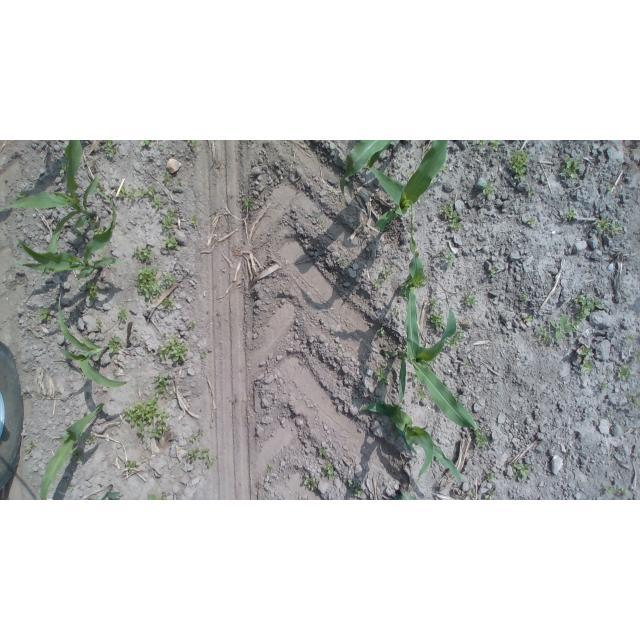Maize: (380, 271, 482, 437), (350, 398, 465, 495), (0, 140, 98, 252), (363, 141, 461, 232), (44, 288, 128, 391), (25, 205, 126, 279), (37, 402, 103, 486), (393, 203, 424, 359), (339, 141, 393, 198)
Weeds: (121, 399, 172, 443), (110, 184, 165, 208), (136, 263, 167, 299), (539, 318, 582, 343), (155, 337, 191, 365), (575, 293, 606, 320), (508, 148, 531, 184), (150, 371, 174, 398), (186, 447, 215, 469), (593, 217, 623, 238), (160, 205, 181, 235), (559, 155, 581, 183), (578, 344, 597, 376), (132, 243, 156, 265), (442, 206, 460, 233), (447, 329, 468, 352), (472, 427, 493, 449), (466, 486, 504, 498), (427, 310, 445, 335), (373, 267, 392, 290), (164, 232, 183, 254), (513, 461, 531, 483), (601, 483, 627, 498), (309, 209, 328, 229), (438, 246, 455, 268), (101, 140, 119, 160), (374, 366, 393, 384), (460, 291, 479, 309), (114, 309, 131, 329), (473, 140, 506, 150), (303, 473, 321, 491), (241, 196, 258, 215), (86, 280, 102, 300), (480, 184, 498, 201), (616, 363, 633, 381), (162, 171, 180, 188), (594, 380, 613, 396), (122, 458, 142, 473), (187, 428, 207, 443), (349, 479, 363, 500), (107, 335, 122, 354), (88, 220, 106, 235), (84, 433, 100, 448), (56, 161, 73, 175), (160, 297, 177, 311), (324, 461, 335, 482), (427, 295, 443, 309), (146, 492, 170, 501), (23, 440, 37, 455), (36, 310, 53, 322), (487, 265, 501, 279), (416, 387, 429, 402), (165, 274, 177, 290), (184, 141, 200, 152), (199, 348, 212, 361), (334, 255, 347, 268), (481, 468, 495, 480), (568, 209, 579, 224), (94, 317, 105, 332), (525, 216, 538, 228), (631, 392, 640, 409), (135, 140, 154, 148), (70, 450, 82, 462), (187, 320, 198, 333), (631, 350, 640, 365), (319, 443, 328, 458), (374, 327, 386, 338), (526, 186, 537, 198), (523, 315, 535, 326), (520, 291, 530, 304), (189, 213, 198, 227), (624, 333, 633, 346), (390, 306, 399, 318), (606, 183, 615, 194)
